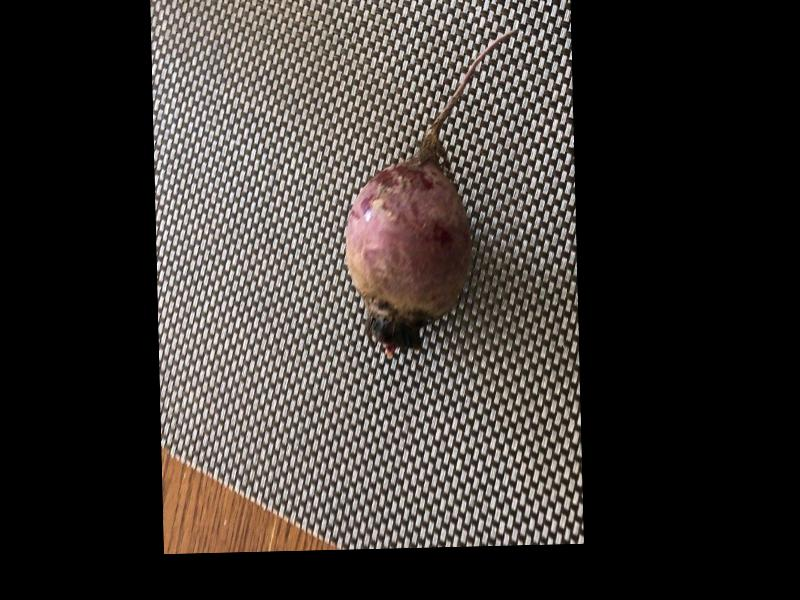Beet: (341, 27, 525, 359)
